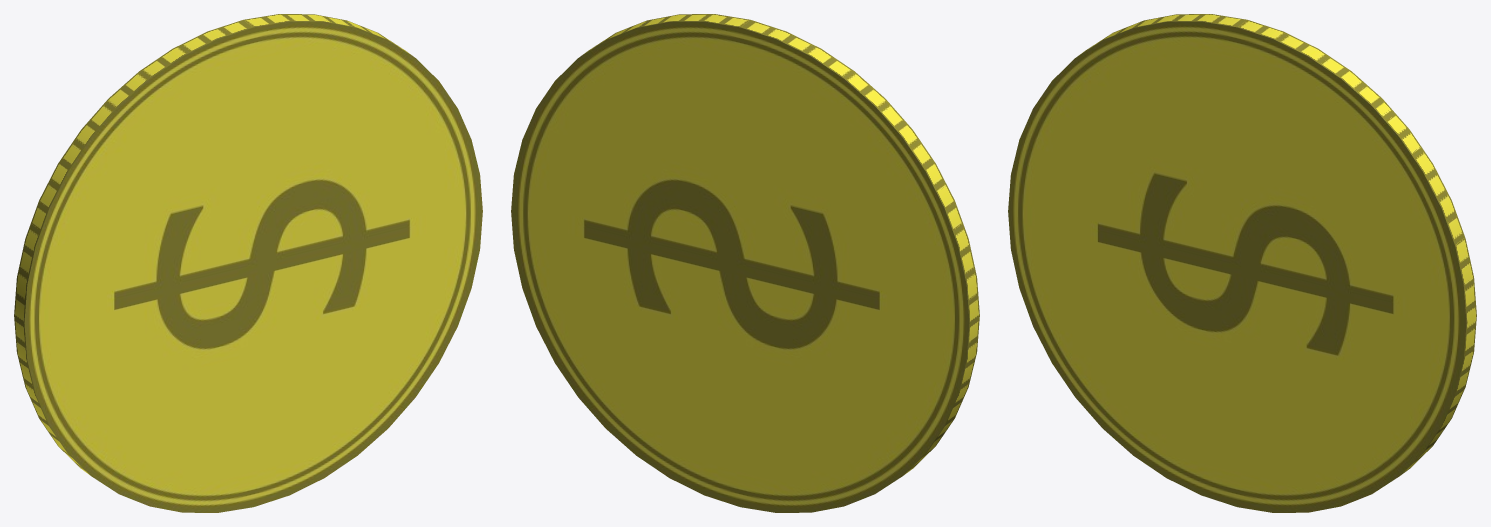
File: Coin.FBX
3 renders of one model, left to right at view 1: azimuth 30°, elevation 25°; view 2: azimuth 150°, elevation 25°; view 3: azimuth 330°, elevation 25°, orthographic.
Parts seen in each view (by area): view 1: Cylinder001; view 2: Cylinder001; view 3: Cylinder001.
Part boxes in pixels (bbox=[...]): Cylinder001: bbox=[14, 14, 482, 512]; Cylinder001: bbox=[511, 14, 979, 512]; Cylinder001: bbox=[1008, 14, 1476, 512].
Bounding box in the file's own units: 90.6 × 90.6 × 3.56.
